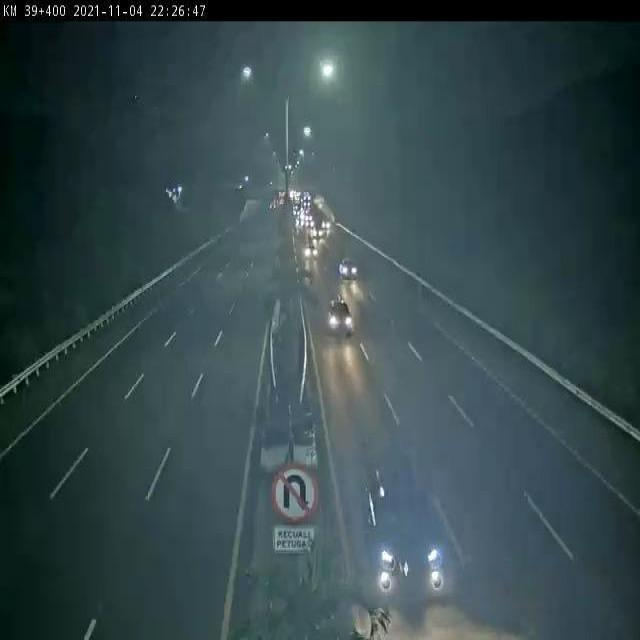car: (365, 470, 447, 602), (325, 301, 354, 335)
